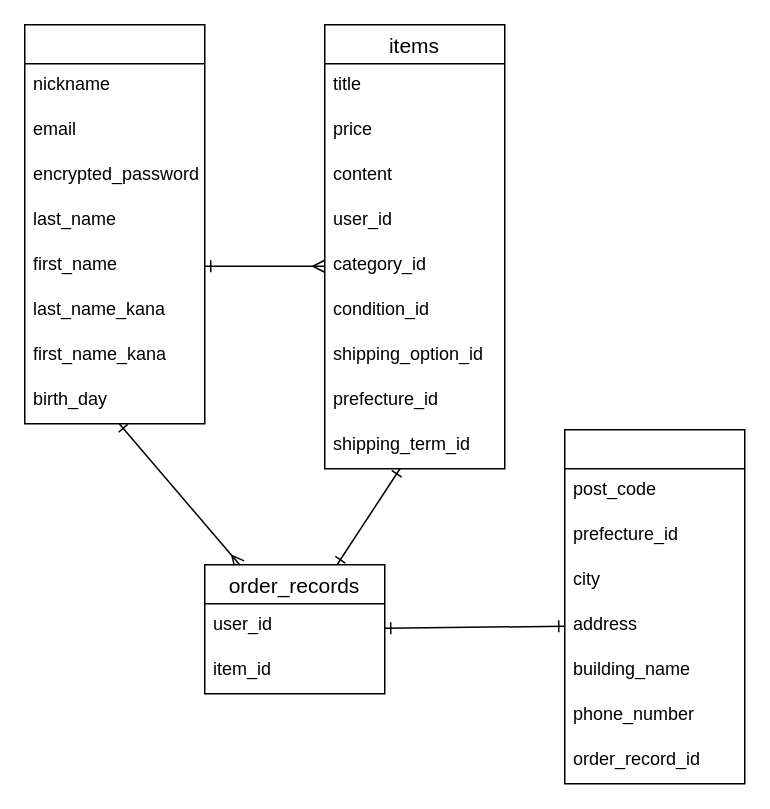
The diagram is 770 pixels wide and 809 high, and some of its shapes have lost their labels. Here are the shapes that lost their labels. From the top down, the box of each, then its label:
(23, 23, 205, 424): users
(563, 428, 745, 784): shipping_info
